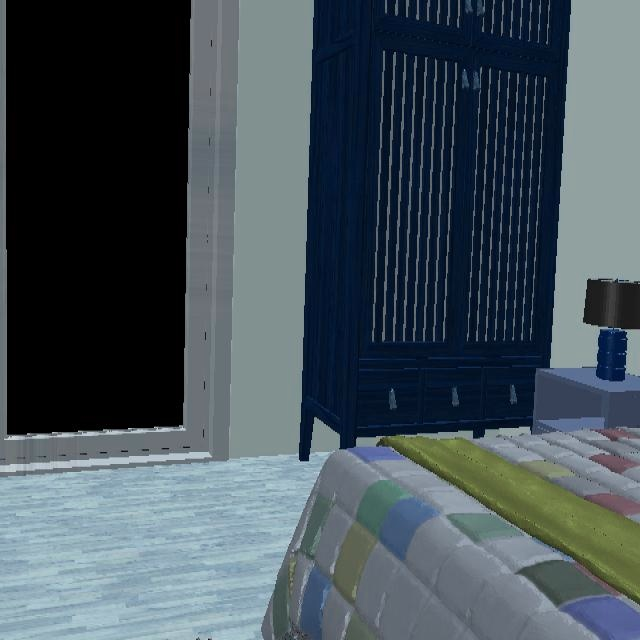bed: (262, 427, 640, 640)
lamp: (583, 279, 640, 383)
nighttable: (533, 367, 640, 432)
wardrobe: (299, 0, 573, 460)
